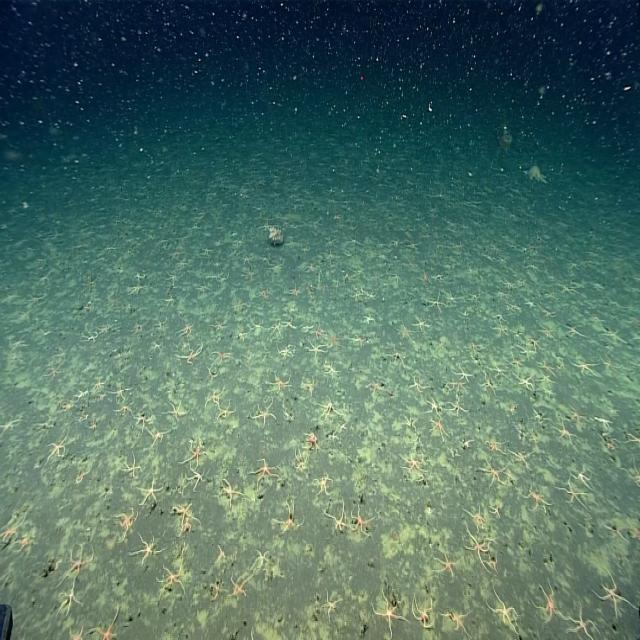brittle-stars: (591, 576, 637, 620), (55, 546, 95, 590), (482, 591, 523, 630), (370, 595, 408, 635), (558, 600, 600, 634), (464, 528, 492, 575), (531, 586, 562, 626), (430, 546, 462, 582), (159, 559, 185, 600), (440, 608, 475, 637), (89, 608, 120, 640), (557, 480, 590, 509), (127, 538, 164, 562), (251, 459, 280, 489), (56, 582, 80, 618), (113, 506, 138, 540), (276, 502, 304, 532), (477, 458, 505, 486), (398, 452, 428, 477), (352, 506, 374, 540), (413, 597, 435, 631), (175, 503, 201, 531), (463, 505, 487, 535), (251, 401, 278, 427), (523, 487, 551, 512), (140, 478, 164, 507), (326, 504, 348, 534), (618, 456, 640, 486), (176, 342, 202, 366), (320, 594, 342, 622), (185, 464, 207, 492), (509, 448, 537, 470), (0, 518, 25, 542), (47, 435, 67, 465), (178, 447, 208, 467), (220, 481, 241, 509), (205, 382, 225, 411), (319, 396, 342, 421), (602, 522, 630, 542), (487, 360, 512, 382), (230, 576, 252, 599), (305, 433, 327, 456), (162, 403, 190, 421), (145, 427, 171, 446), (428, 417, 447, 443), (407, 374, 428, 397), (572, 468, 593, 491), (292, 445, 310, 471), (314, 476, 334, 499), (555, 422, 575, 444), (562, 322, 586, 340), (264, 375, 292, 390), (218, 401, 238, 422), (524, 333, 545, 353), (603, 325, 625, 344), (572, 360, 598, 376), (385, 350, 408, 368), (568, 403, 584, 428), (14, 534, 37, 551), (250, 552, 273, 569), (448, 398, 468, 417), (124, 456, 142, 477), (0, 416, 20, 434), (306, 341, 326, 359), (600, 357, 622, 373), (44, 361, 61, 381), (302, 375, 319, 395), (134, 411, 152, 429), (427, 294, 444, 313), (508, 352, 525, 371), (77, 463, 91, 486), (515, 373, 535, 389), (110, 388, 132, 402), (208, 582, 226, 599), (176, 320, 194, 337), (532, 407, 550, 424), (486, 438, 505, 454), (35, 416, 53, 432), (558, 282, 577, 297), (426, 398, 442, 415), (322, 362, 338, 379), (402, 416, 419, 432), (398, 324, 413, 342), (594, 415, 613, 429), (484, 556, 498, 575), (213, 544, 225, 566), (211, 349, 231, 362), (538, 371, 554, 387), (454, 369, 472, 383), (538, 362, 556, 376), (113, 404, 133, 416), (368, 379, 384, 394), (266, 323, 283, 337), (412, 316, 429, 330), (68, 627, 86, 640), (10, 337, 28, 350), (539, 306, 557, 319), (166, 270, 178, 289), (74, 388, 88, 404), (281, 316, 297, 330), (499, 278, 516, 291), (480, 379, 495, 393), (132, 322, 148, 335), (81, 331, 98, 343), (488, 505, 502, 519), (196, 281, 210, 295), (445, 292, 460, 305), (277, 345, 294, 356), (492, 326, 509, 337), (107, 297, 121, 310), (97, 324, 112, 336), (350, 336, 366, 347), (210, 321, 226, 332), (282, 410, 295, 423), (154, 318, 168, 330), (628, 431, 640, 445), (249, 322, 263, 334), (75, 410, 89, 422), (169, 249, 184, 260), (149, 341, 163, 352), (127, 286, 144, 295), (632, 523, 640, 542), (232, 301, 247, 311), (363, 314, 375, 326), (302, 323, 315, 334), (60, 402, 74, 412), (312, 326, 322, 340), (86, 422, 100, 432), (132, 272, 147, 281), (258, 286, 270, 297), (95, 392, 108, 402), (291, 284, 301, 297), (463, 438, 476, 448), (327, 337, 338, 348), (366, 290, 378, 300), (492, 315, 505, 324), (94, 380, 104, 391), (524, 300, 537, 308), (165, 294, 173, 306)
